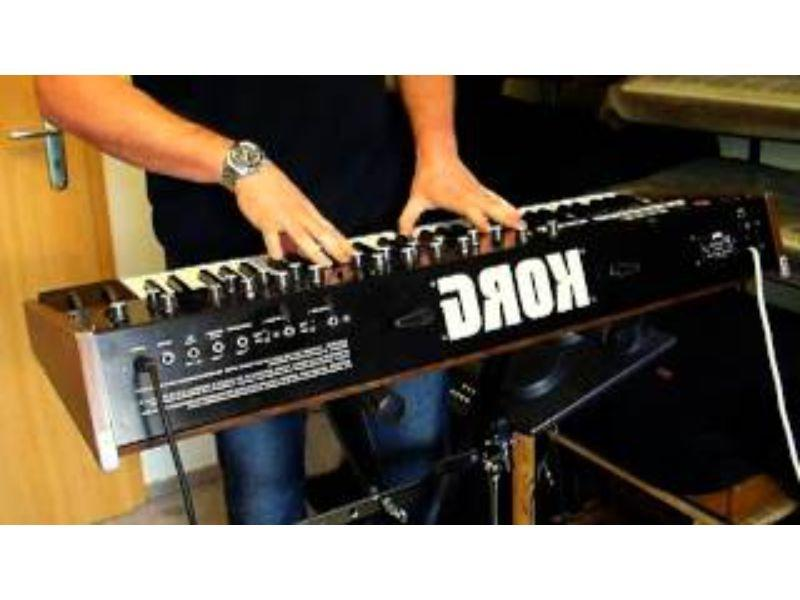synthesizer: (15, 231, 784, 404)
